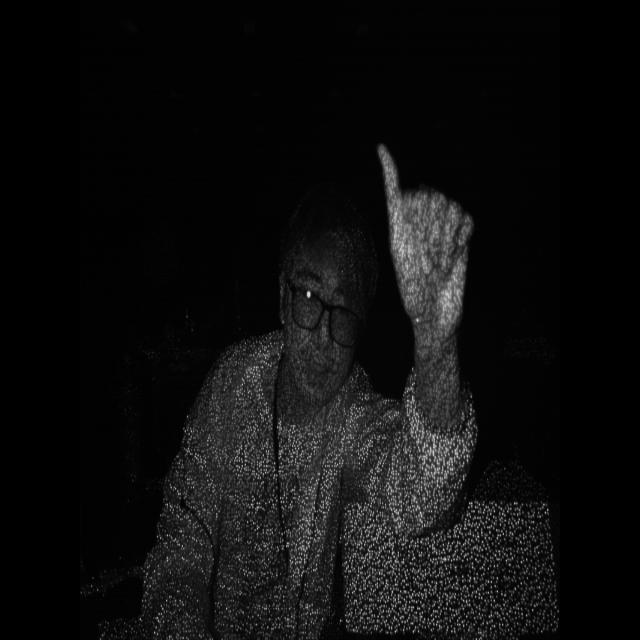A: (374, 135, 511, 371)
